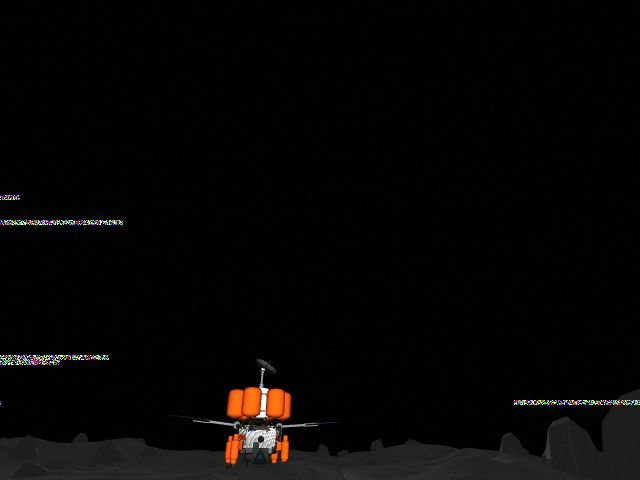homebase: (182, 357, 336, 472)
